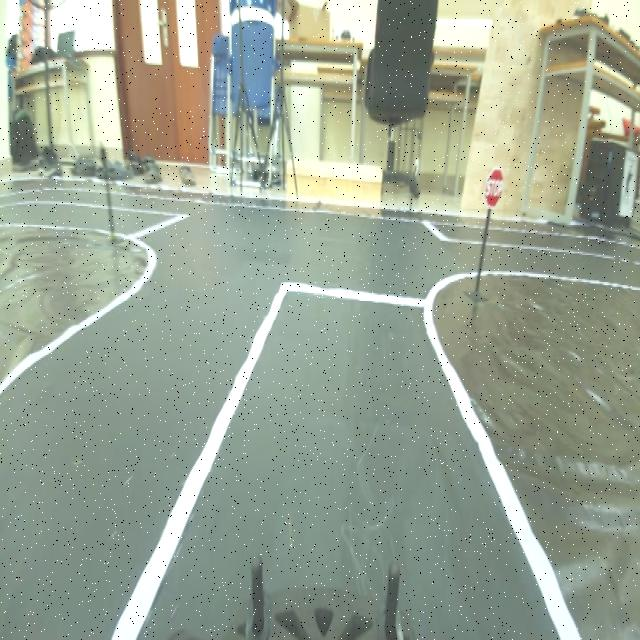stop: (480, 161, 508, 210)
